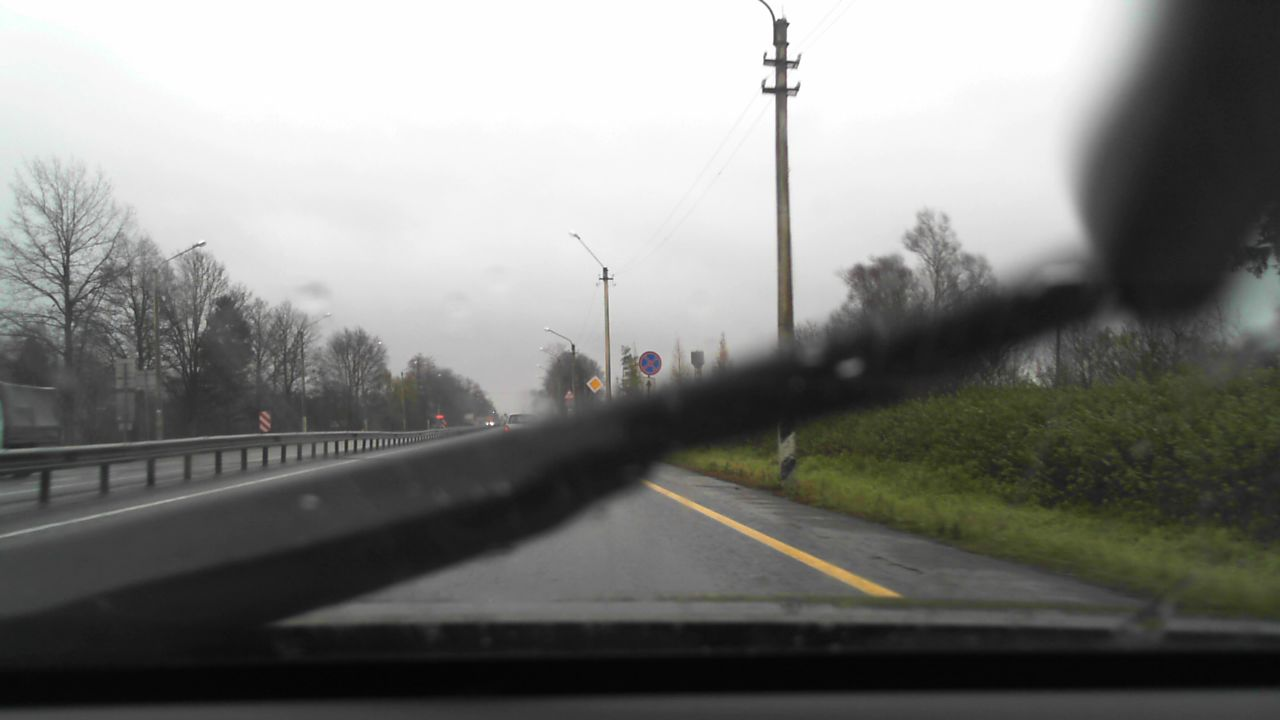No Parking: (638, 351, 661, 375)
